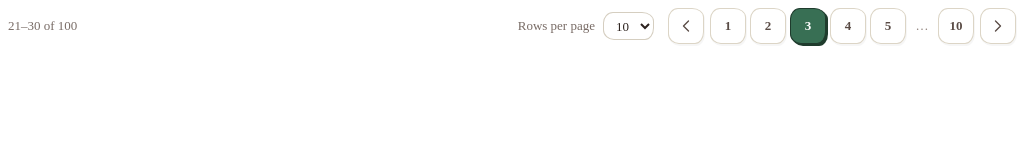
Pagination › keeps its own page size when uncontrolled
Expected: the text "21–30 of 100" is shown, [8, 18, 77, 34]
Select "50" in the dropdown labelled "Rows per page" at [628, 26], box [603, 12, 654, 40]
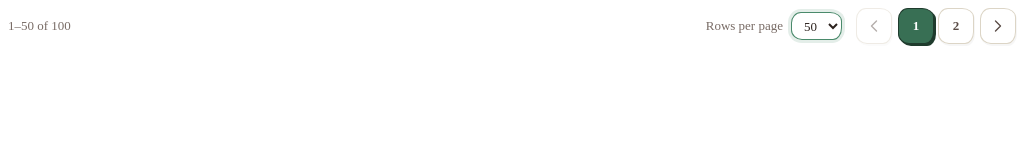
Expected: the text "1–50 of 100" is shown, [8, 18, 71, 34]
